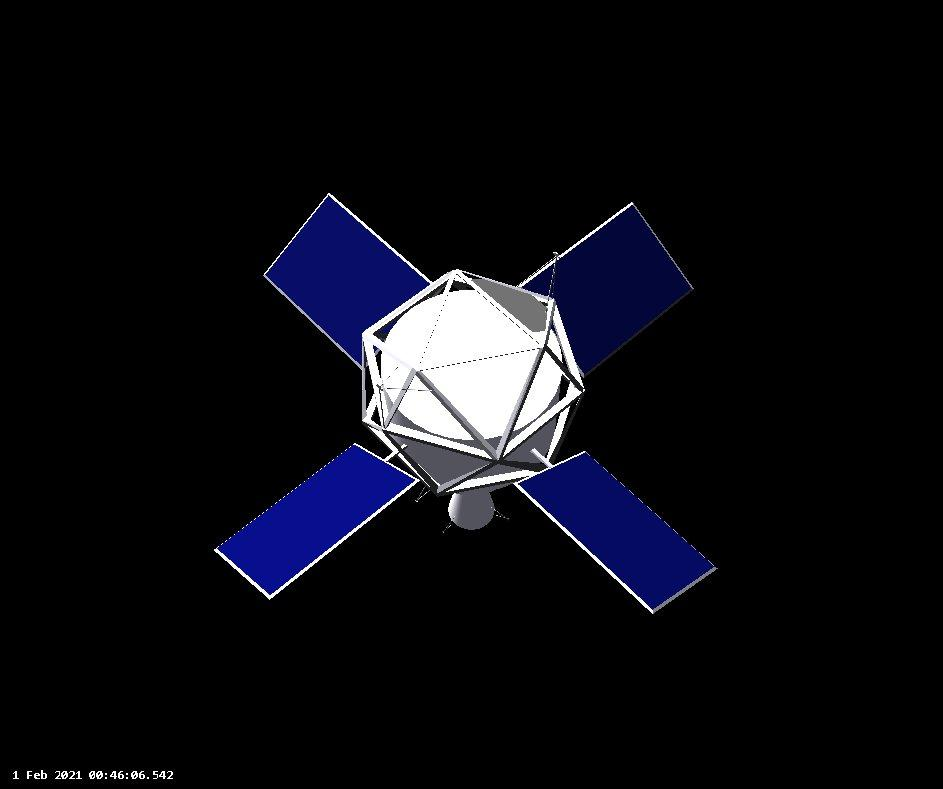antenna: (542, 246, 559, 311)
body: (359, 266, 587, 493)
solar: (511, 449, 719, 613), (259, 191, 442, 374), (516, 199, 695, 377), (214, 443, 420, 597)
thruster: (445, 477, 498, 531)
